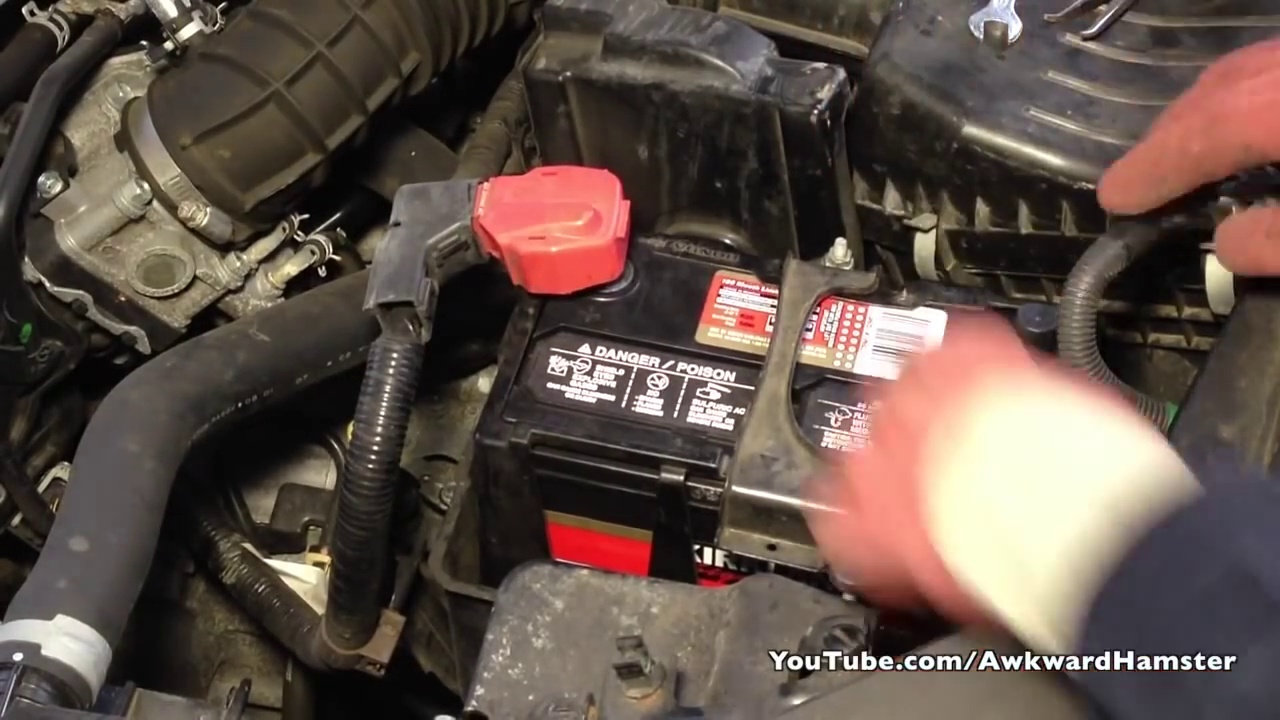battery: (475, 235, 1060, 539)
pos_connected: (411, 169, 656, 303)
